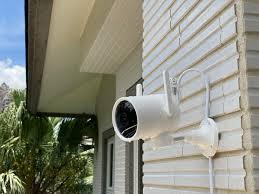Monitor: (101, 70, 216, 171)
